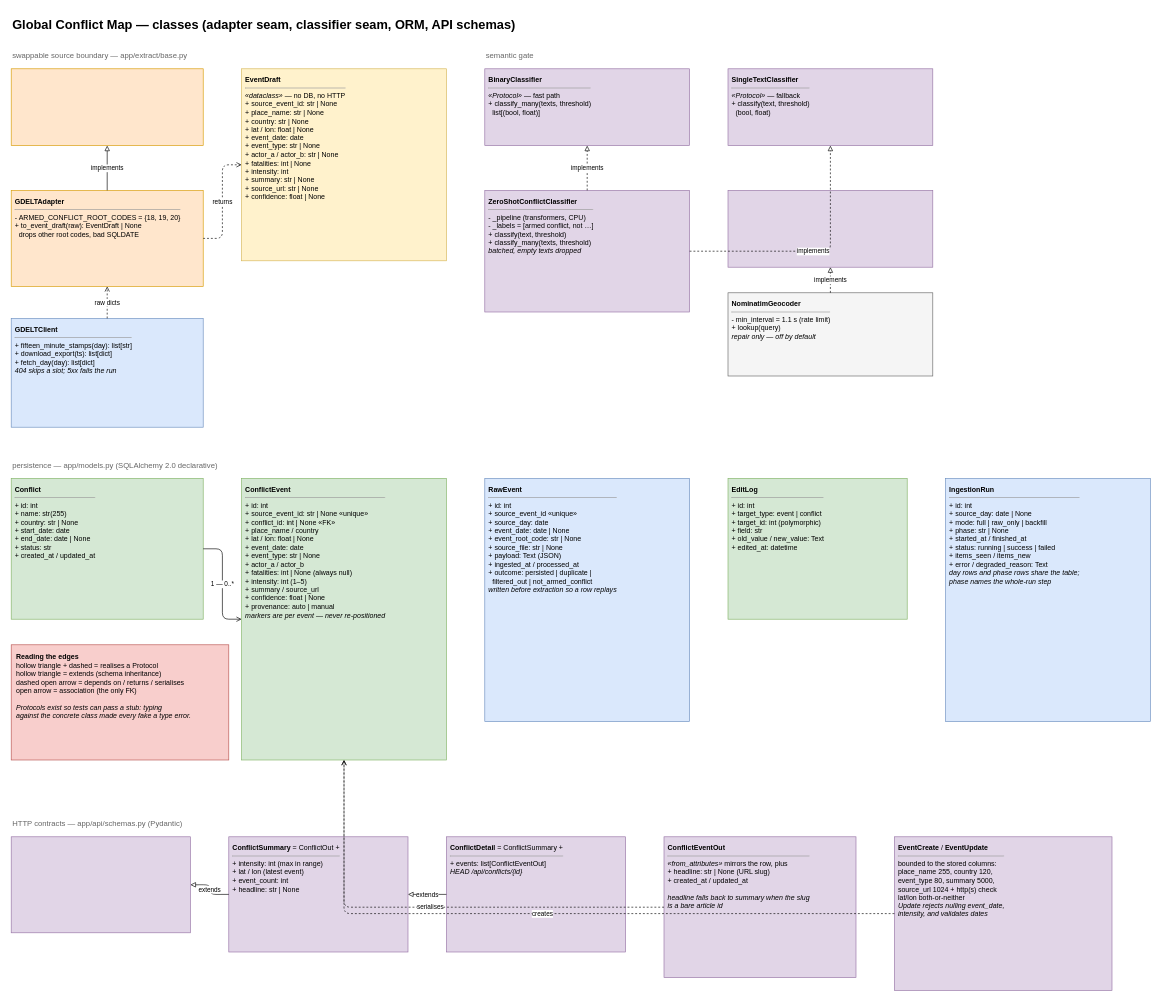
The diagram is 1162 pixels wide and 1002 high, and some of its shapes have lost their labels. Each missing label, with the centre of its shape:
"BaseSourceAdapter «abstract» + to_event_draft(raw: dict) EventDraft | None" belongs at [107,107].
"ConflictOut id, name, country, start_date, end_date, status" belongs at [100,884].
"Geocoder «Protocol» + lookup(query) (lat, lon, country) | None" belongs at [830,228].
